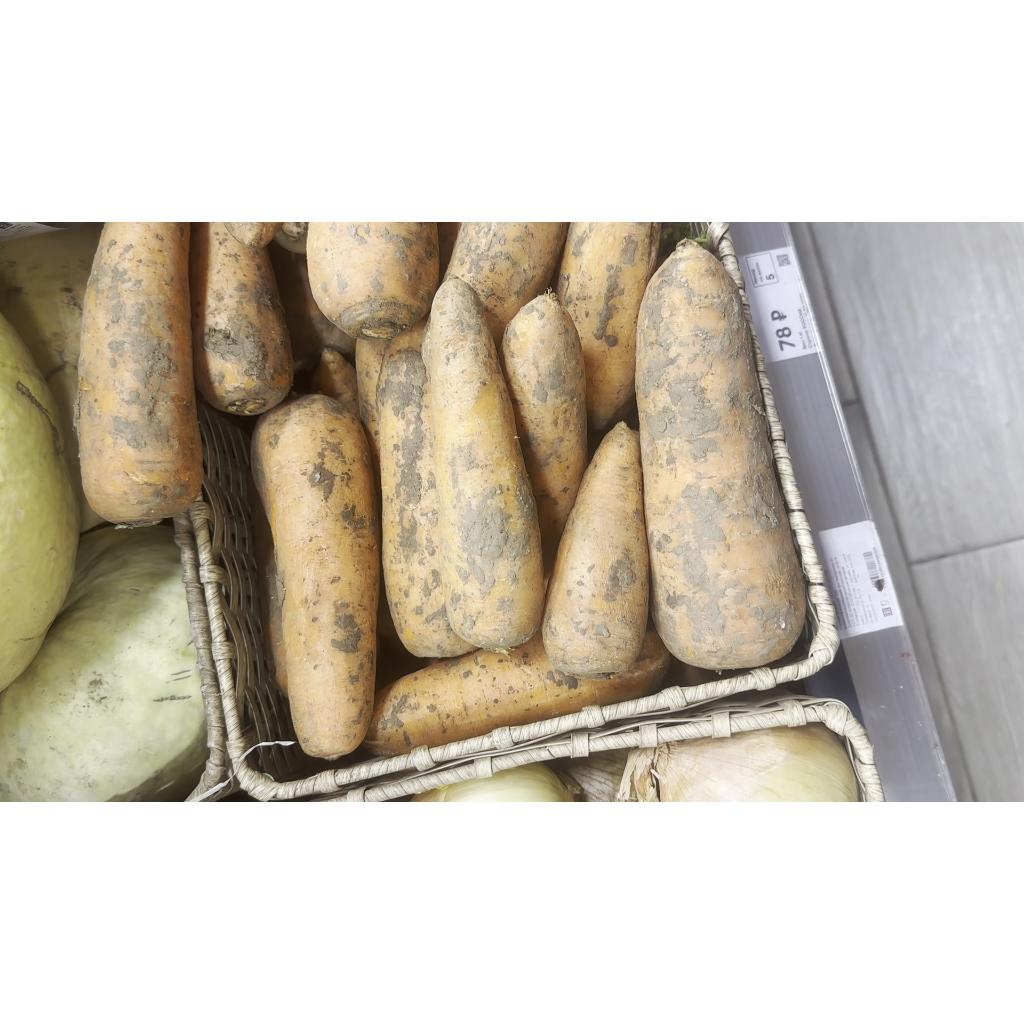carrot: (636, 240, 806, 670), (252, 394, 380, 759), (422, 276, 544, 652), (364, 632, 668, 756), (78, 222, 202, 524), (376, 348, 474, 657), (542, 422, 648, 676), (500, 292, 588, 576), (558, 222, 660, 430), (190, 222, 294, 416), (306, 222, 440, 340), (446, 222, 568, 339)
